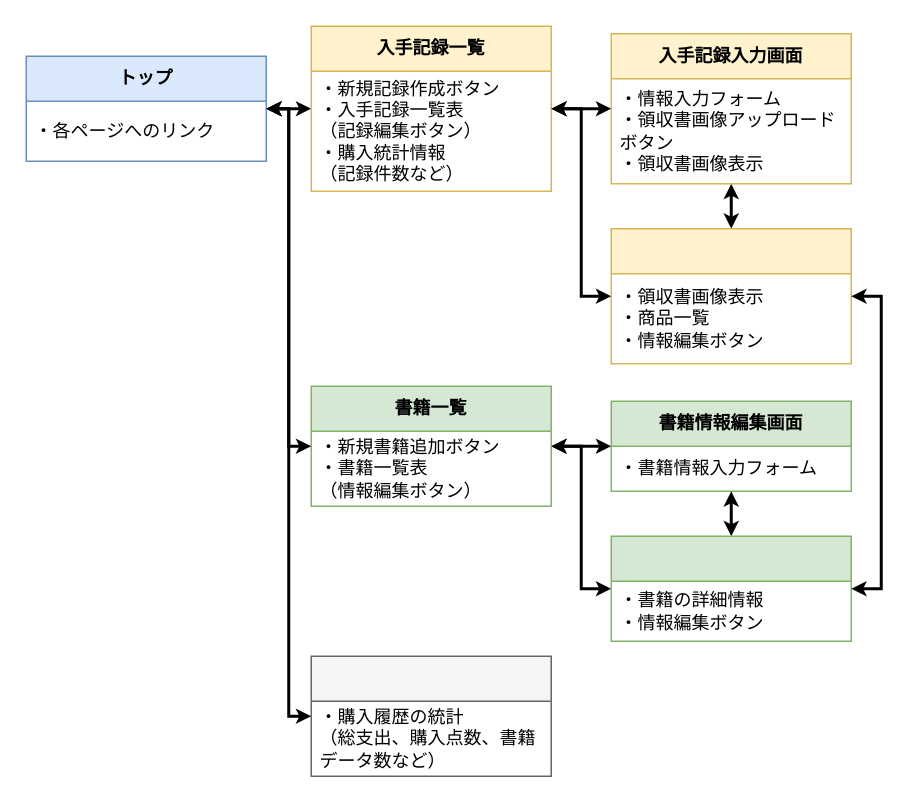
The diagram is 920 pixels wide and 803 high, and some of its shapes have lost their labels. The box of each missing label's shape, as (x1, y1, x2, y2) in pixels:
入手記録詳細: (610, 227, 851, 364)
書籍詳細: (610, 535, 851, 641)
統計: (310, 655, 551, 776)
